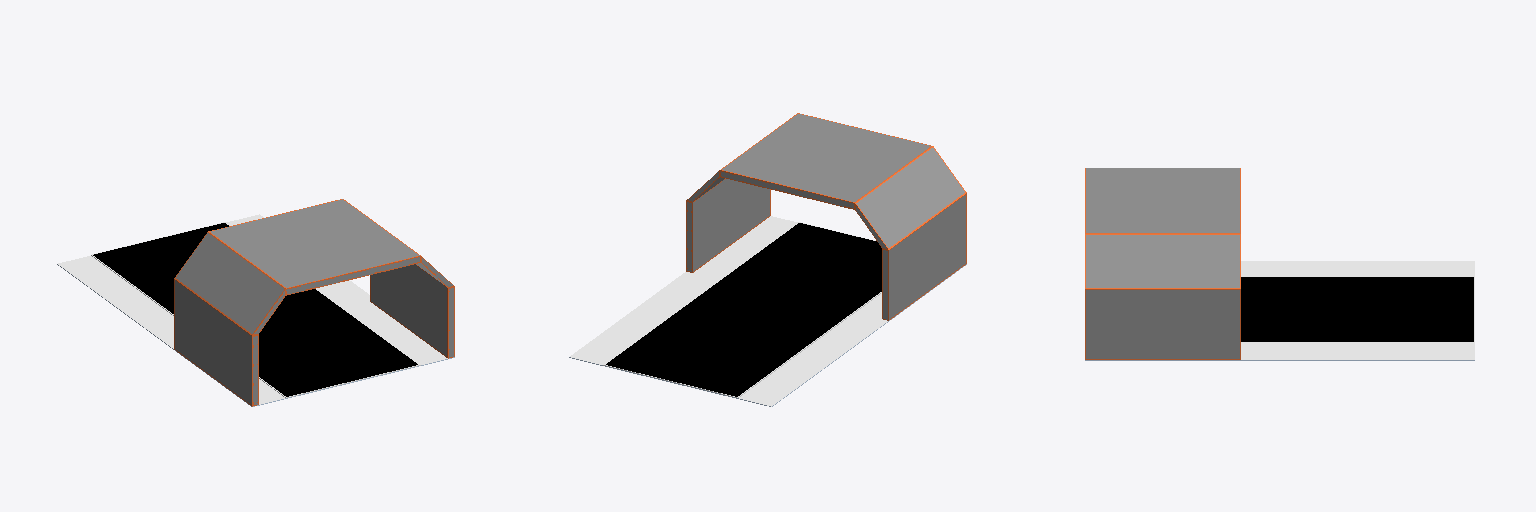
3 views of the same model, side by side, from view 1: azimuth 30°, elevation 25°; view 2: azimuth 150°, elevation 25°; view 3: azimuth 270°, elevation 25° (orthographic).
Parts seen in each view (by area): view 1: Cube3, Cube1, Cube2; view 2: Cube3, Cube1, Cube2; view 3: Cube3, Cube1, Cube2.
Part boxes in pixels (x1,y1,x2,y2): Cube3: (174, 199, 454, 406); Cube1: (91, 222, 420, 397); Cube2: (57, 214, 454, 406); Cube3: (686, 113, 966, 320); Cube1: (603, 222, 881, 397); Cube2: (569, 216, 966, 406); Cube3: (1085, 168, 1240, 359); Cube1: (1241, 277, 1474, 342); Cube2: (1085, 261, 1474, 360).
Bounding box in the file's own units: 30 × 15.6 × 50.
4 materials, 2 textured.